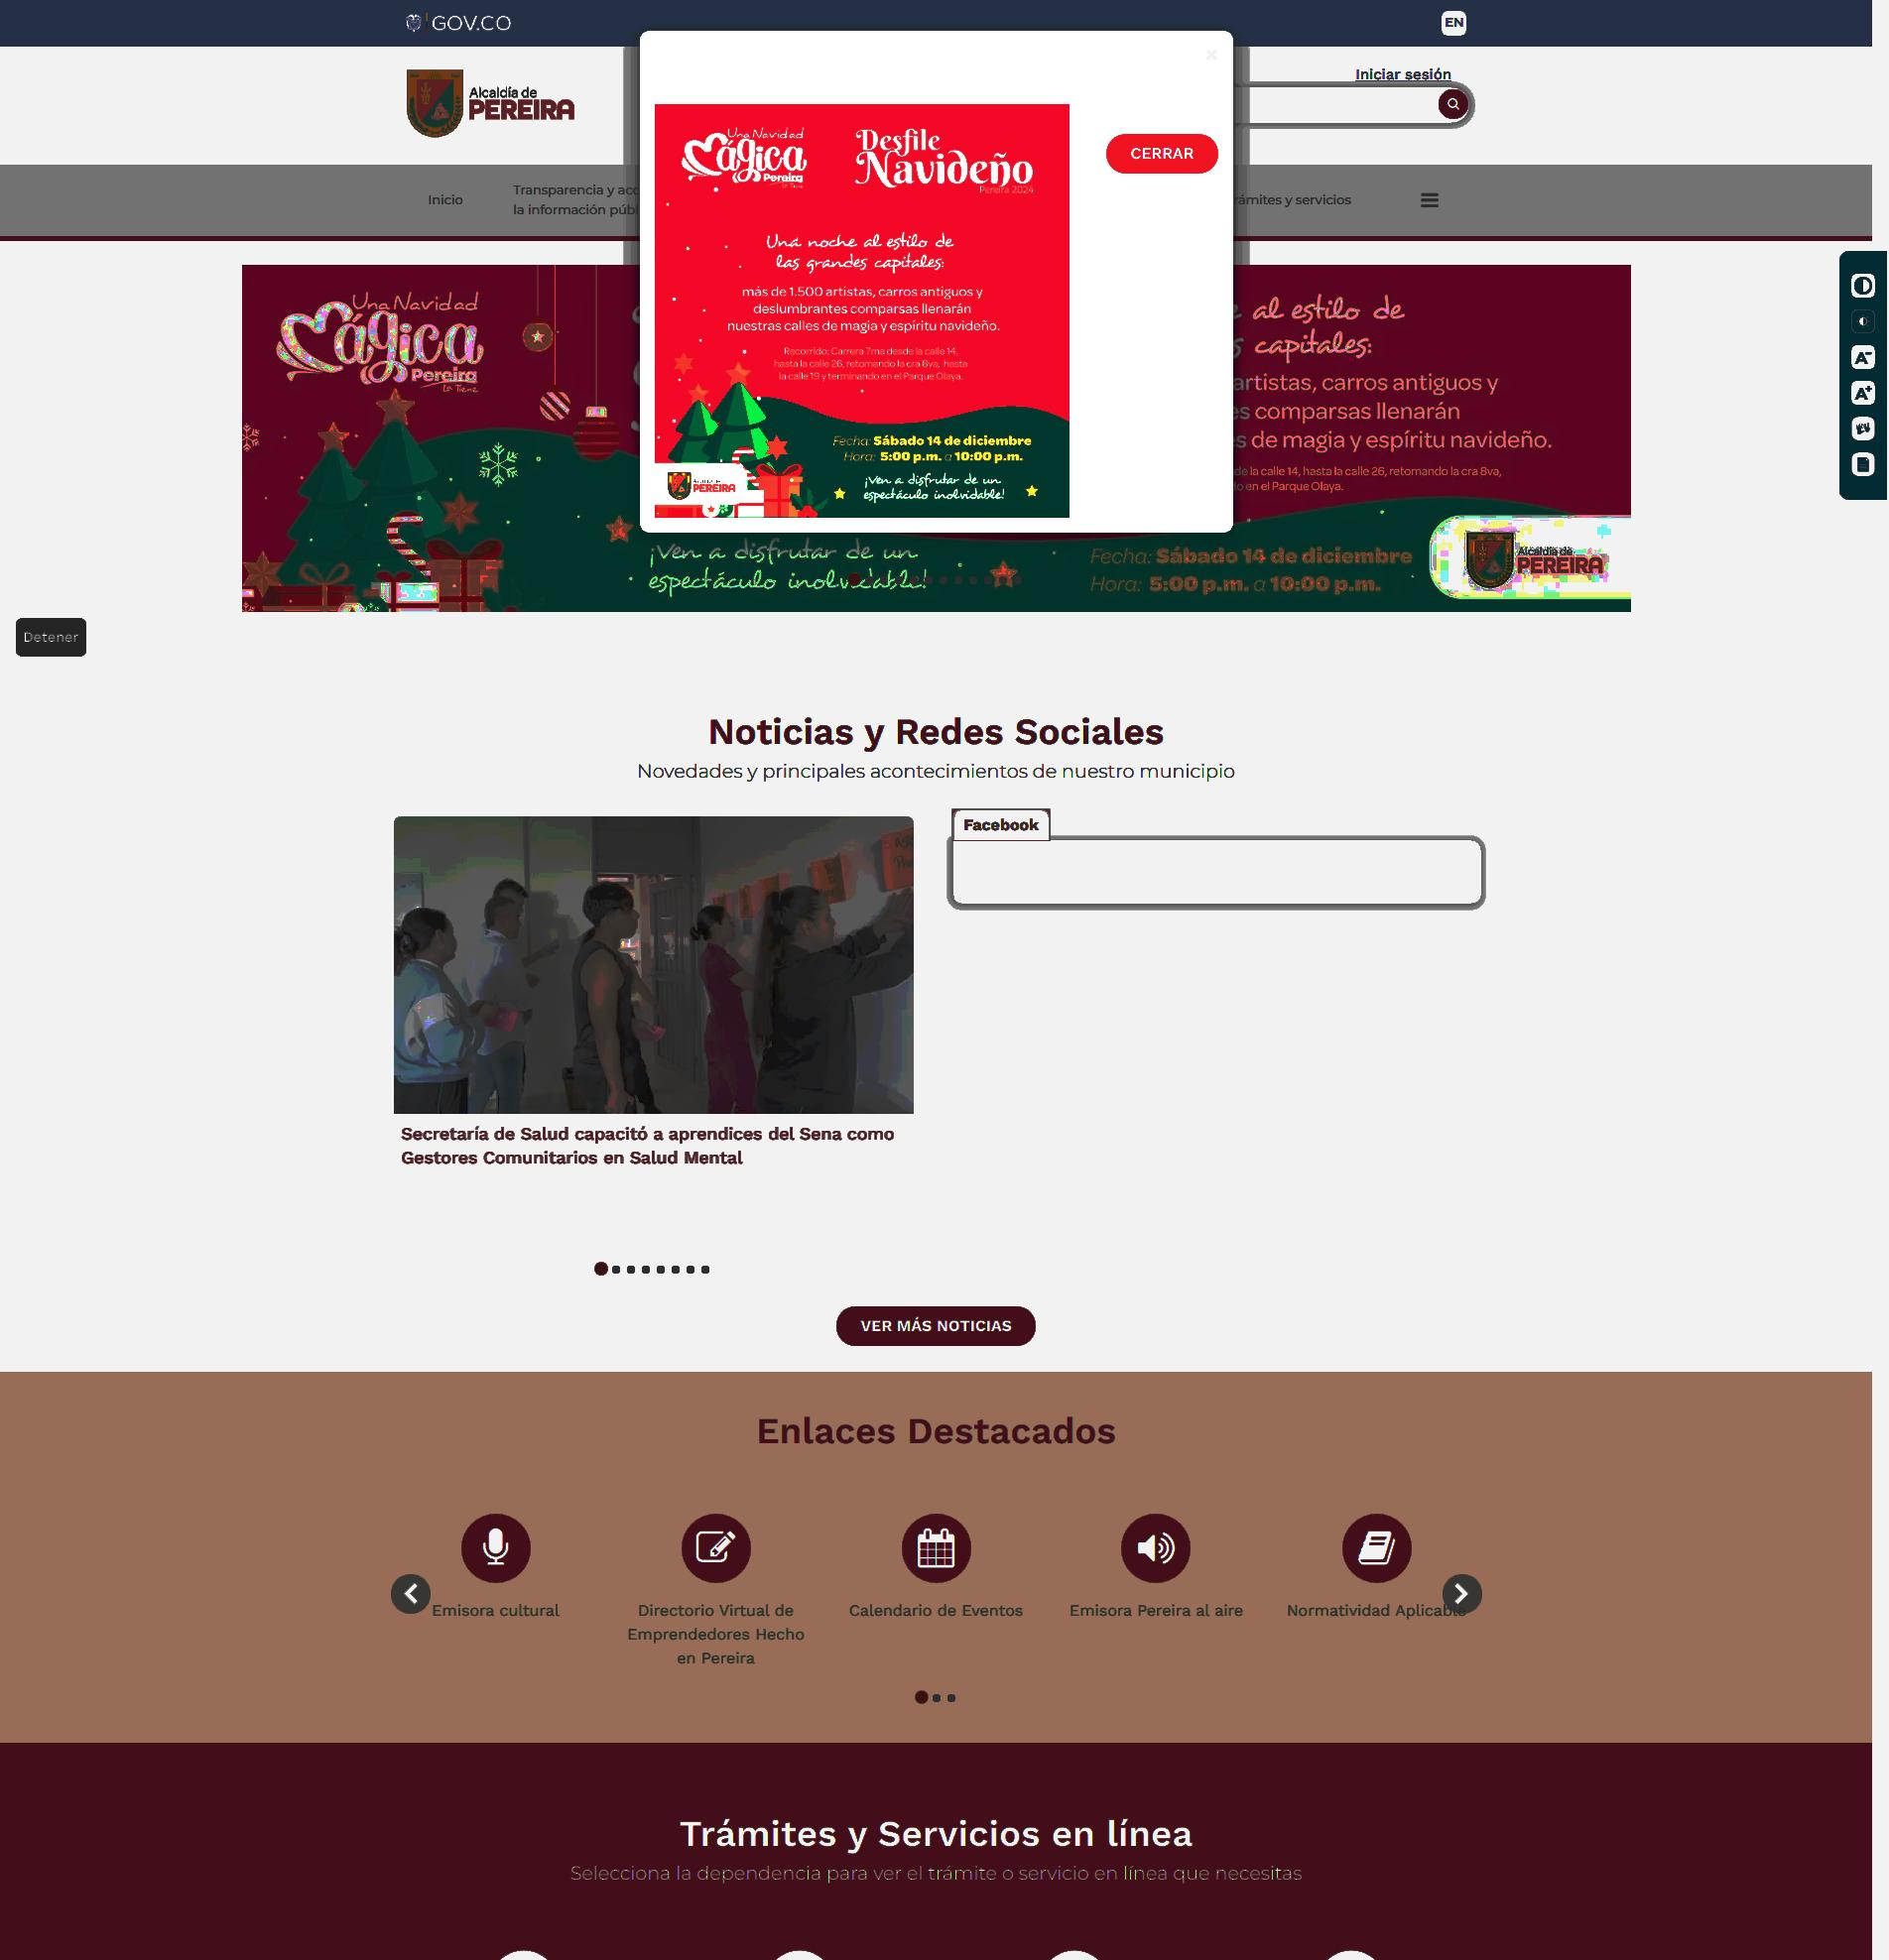banner principal: (236, 258, 1640, 616)
barra accesibilidad: (1835, 248, 1889, 500)
barra govco: (402, 0, 1470, 45)
btn buscador: (1236, 85, 1471, 125)
btn idiomas: (1441, 7, 1469, 39)
btn inicio: (426, 189, 465, 208)
btn inicio sesion: (1353, 66, 1455, 84)
btn noticias: (834, 1303, 1039, 1349)
btn tramites: (668, 1810, 1206, 1858), (1236, 190, 1354, 215)
btn transpariencia: (510, 179, 638, 219)
logogovco: (405, 7, 516, 40)
menu principal: (425, 176, 1444, 228)
